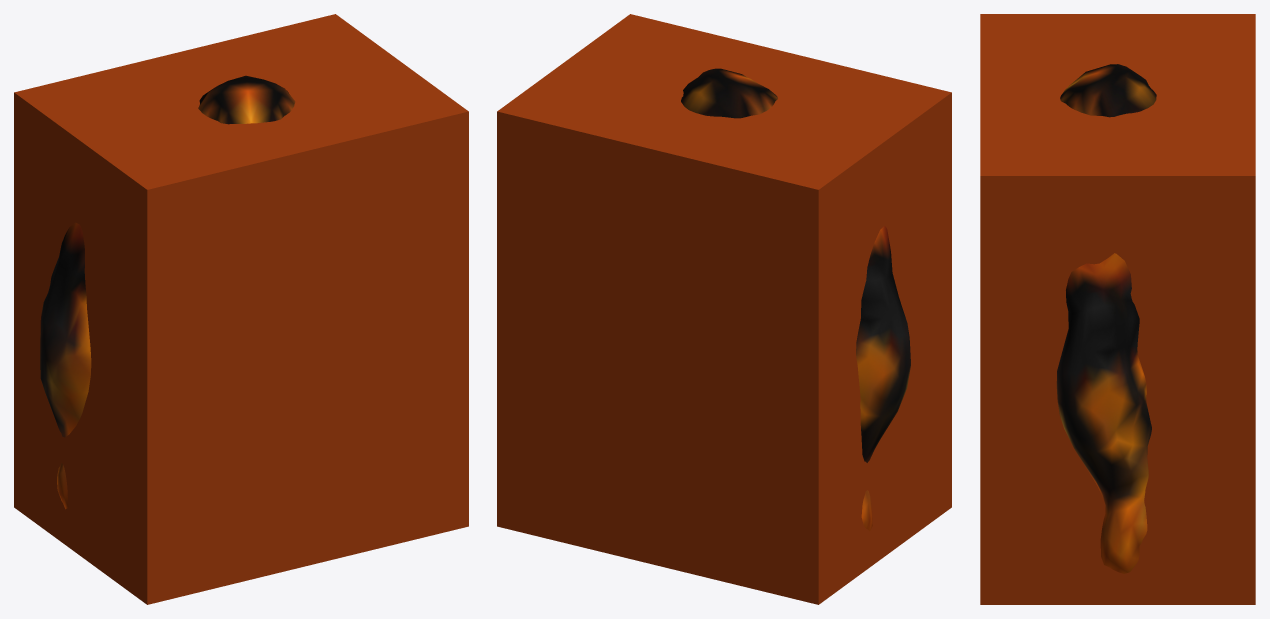
The model's file is MagmaElemental_1_000020.obj.
The picture shows the model from 3 angles, left to right: view 1: azimuth 30°, elevation 25°; view 2: azimuth 150°, elevation 25°; view 3: azimuth 270°, elevation 25°; orthographic projection. The views are drawn at different scales.
Parts seen in each view (by area): view 1: Cube, Elemental_FireGolem; view 2: Cube, Elemental_FireGolem; view 3: Cube, Elemental_FireGolem.
Boxes of the visible parts, box(x1,y1,x2,y2) form: Cube: box(14, 14, 468, 604); Elemental_FireGolem: box(40, 75, 295, 509); Cube: box(497, 14, 951, 604); Elemental_FireGolem: box(681, 68, 910, 531); Cube: box(980, 14, 1255, 604); Elemental_FireGolem: box(1056, 64, 1156, 573).
Bounding box in the file's own units: 3.37 × 3.91 × 2.02.
2 materials, 1 textured.
